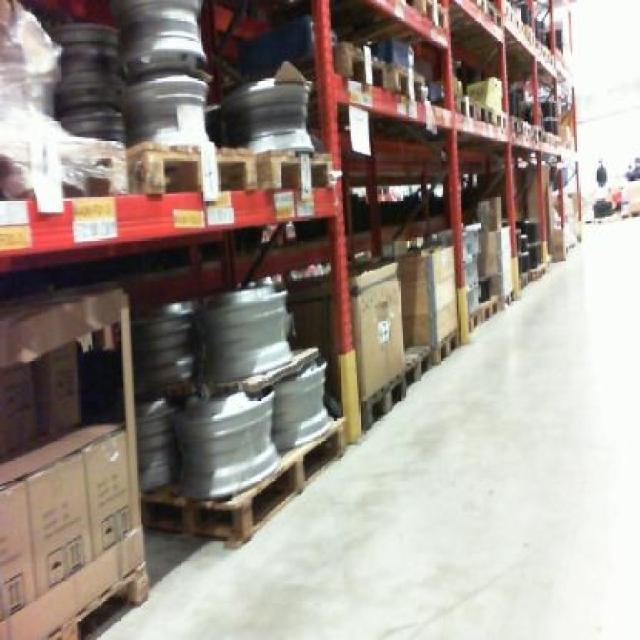pallets: (0, 283, 145, 637), (0, 423, 145, 637), (397, 245, 454, 343)
